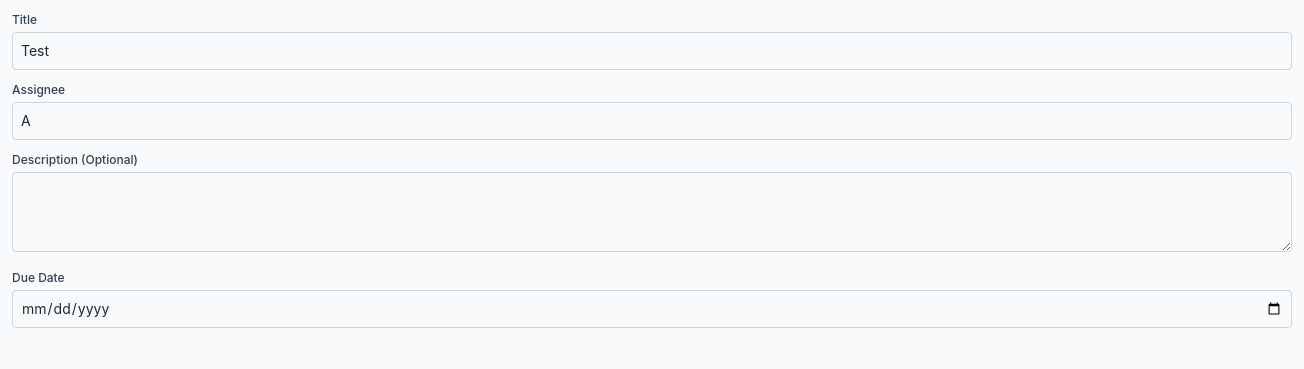
Test case: TaskNodeForm › submitting with empty title shows validation error
# Clear the title input
Clear the field showing "Test" below "Title" at [652, 51], box x1=12 y1=32 x2=1292 y2=70
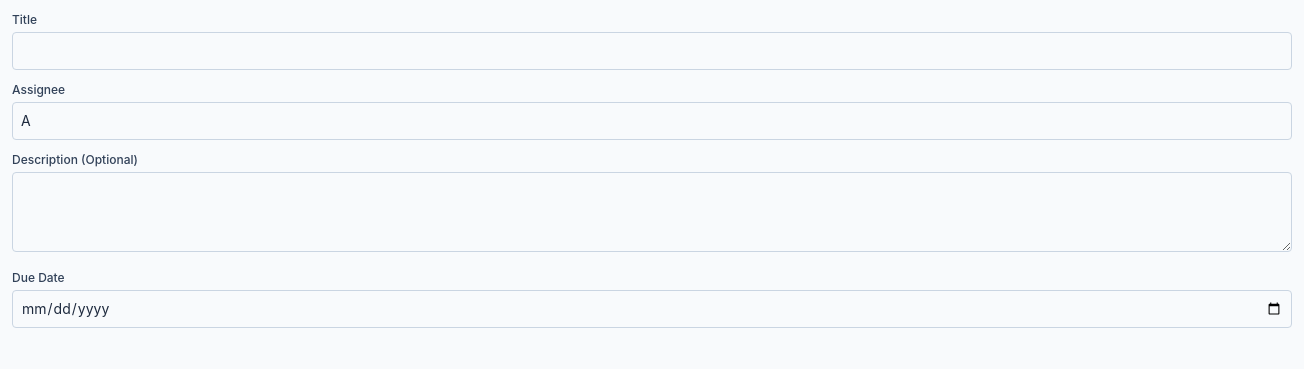
Leave the field showing "Test" below "Title", box x1=12 y1=32 x2=1292 y2=70
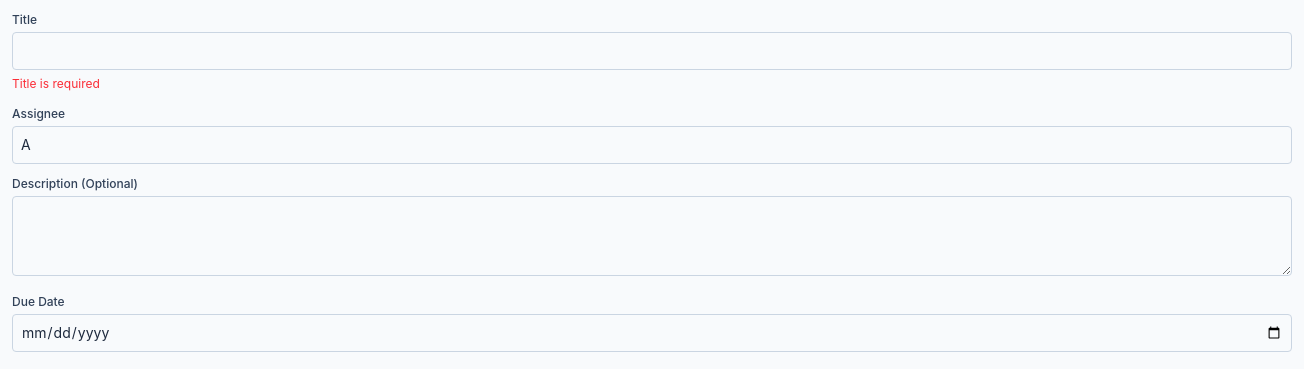
Result: the text "Title is required" is shown at x1=12 y1=76 x2=100 y2=91
